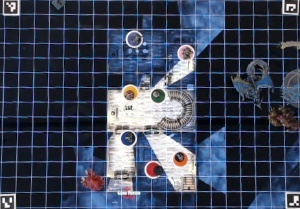blue: (118, 129, 137, 148)
green: (148, 87, 169, 104)
orange: (172, 150, 189, 168)
pink: (175, 41, 195, 62)
red: (143, 159, 162, 179)
violet: (124, 29, 144, 49)
yellow: (120, 82, 138, 101)
